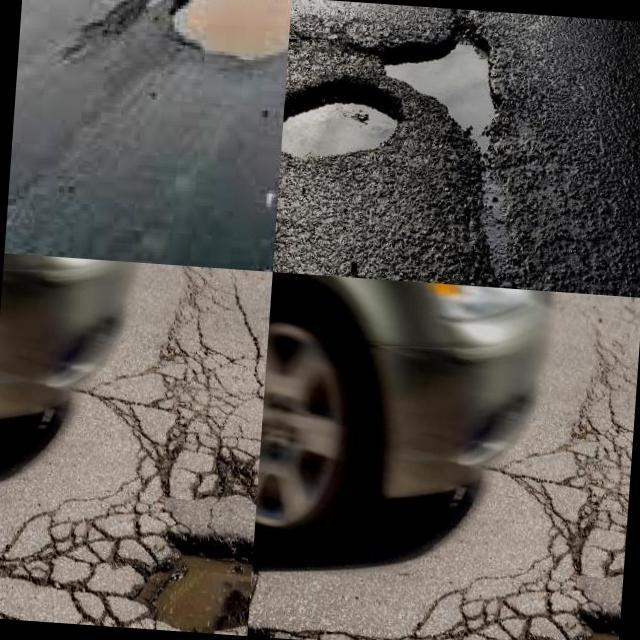Pothole: (358, 26, 508, 159), (87, 0, 291, 61), (136, 533, 253, 633), (281, 74, 398, 160)
